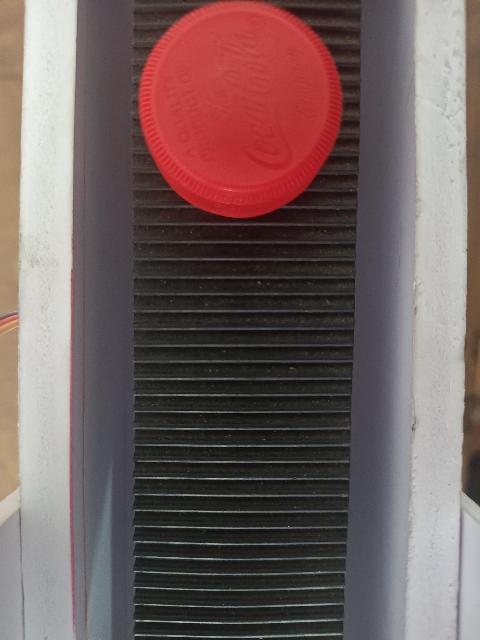bottlecap: (138, 1, 348, 220)
